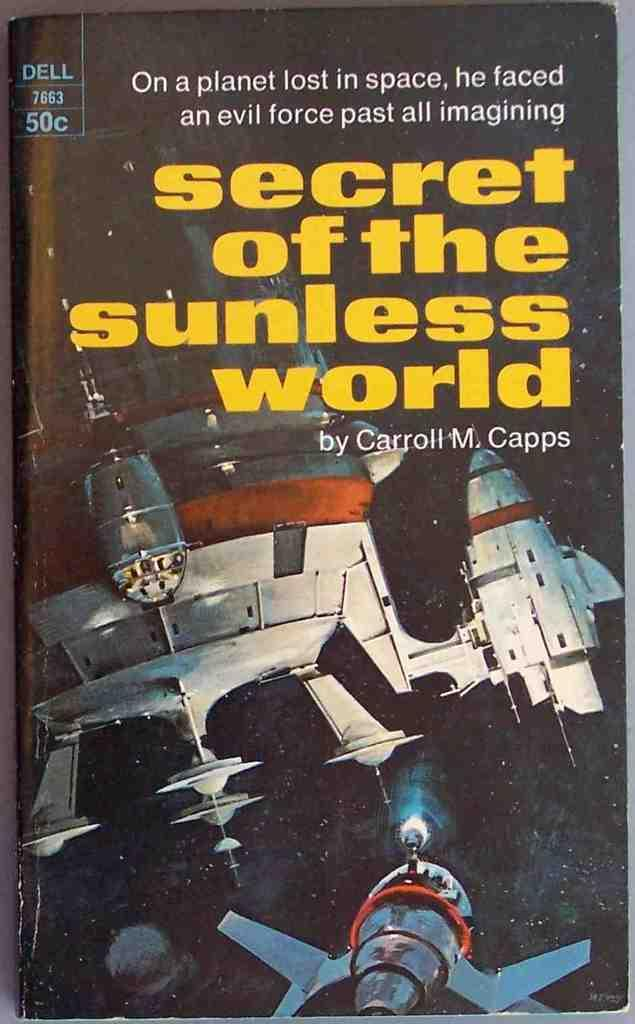Book: (6, 6, 631, 1023)
